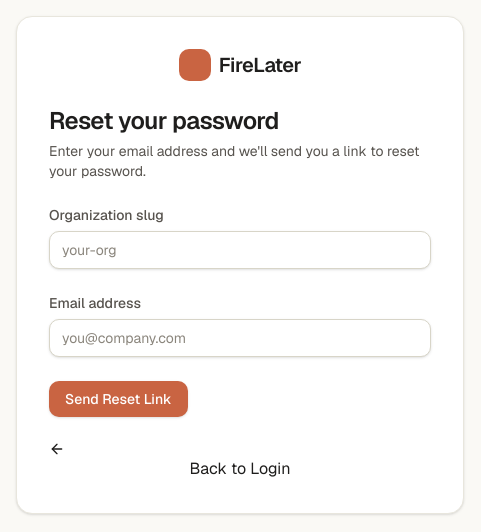
ForgotPasswordPage › Successful Password Reset Request › displays success message after successful submission
Type "test-org" into the field labelled "Organization slug" at point(240, 250), box x1=49 y1=231 x2=431 y2=269
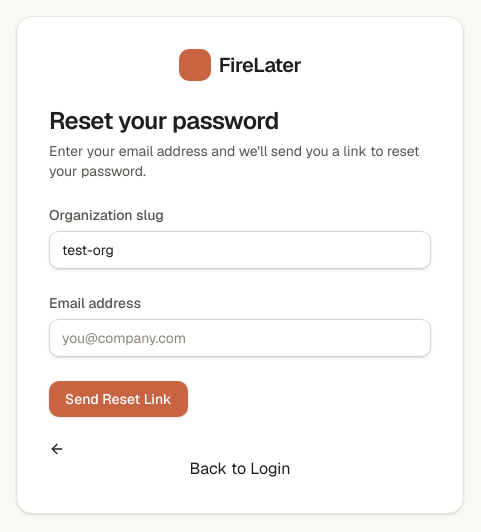
Type "test@example.com" into the field labelled "Email address" at point(240, 338), box x1=49 y1=319 x2=431 y2=357
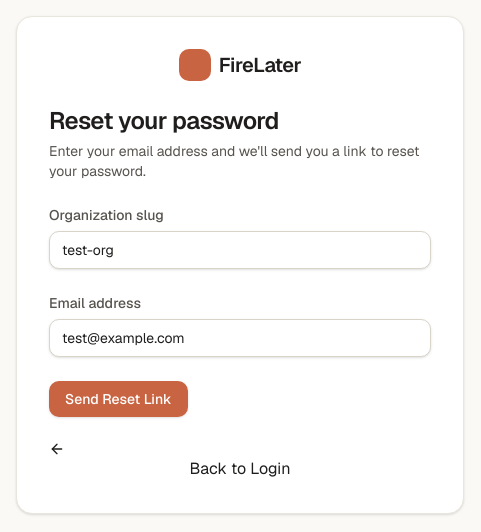
Click the button "Send Reset Link" at point(118, 399), box x1=49 y1=381 x2=188 y2=417
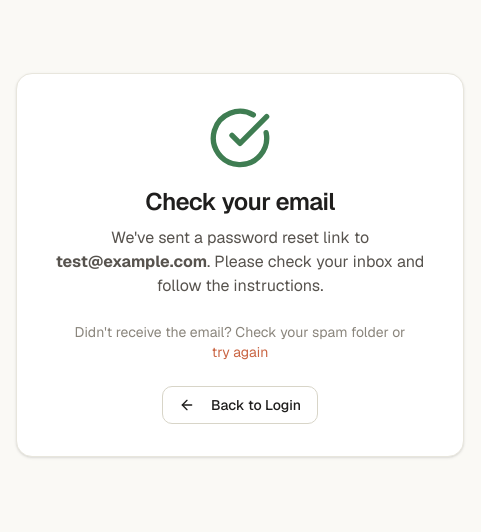
Expected: the heading "Check your email" is shown, x1=145 y1=186 x2=335 y2=217
Expected: the text "We've sent a password reset link to" is shown, x1=111 y1=227 x2=369 y2=248
Expected: the text "test@example.com" is shown, x1=56 y1=251 x2=207 y2=272
